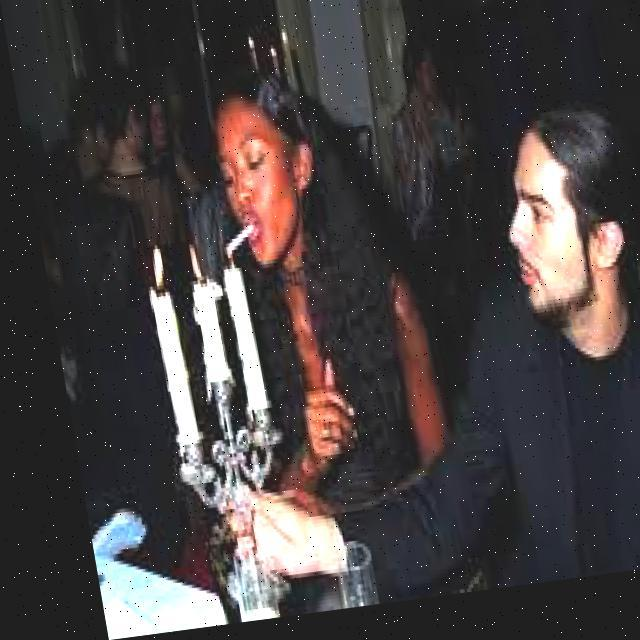Fire: (124, 237, 160, 294), (172, 240, 198, 286)
